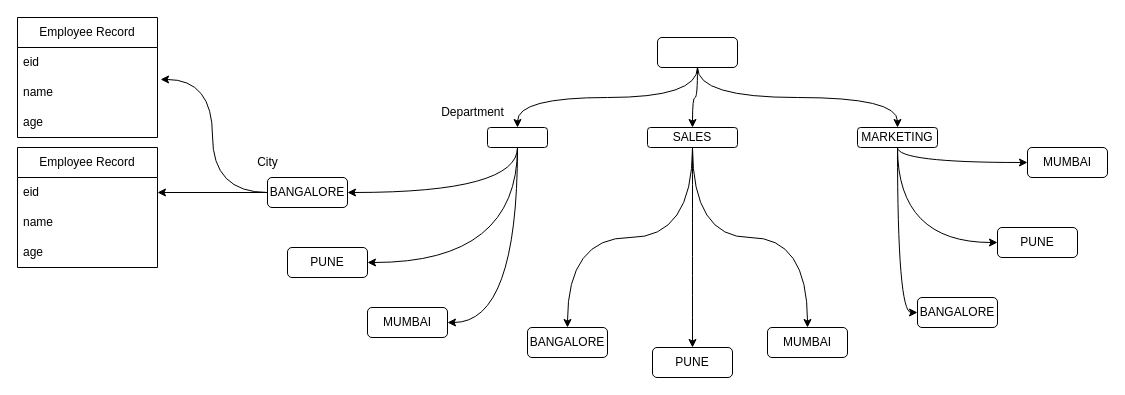
The diagram is 1125 pixels wide and 395 high, and some of its shapes have lost their labels. Each missing label, with the box of its shape:
Employee: (656, 36, 738, 68)
IT: (486, 126, 548, 148)
